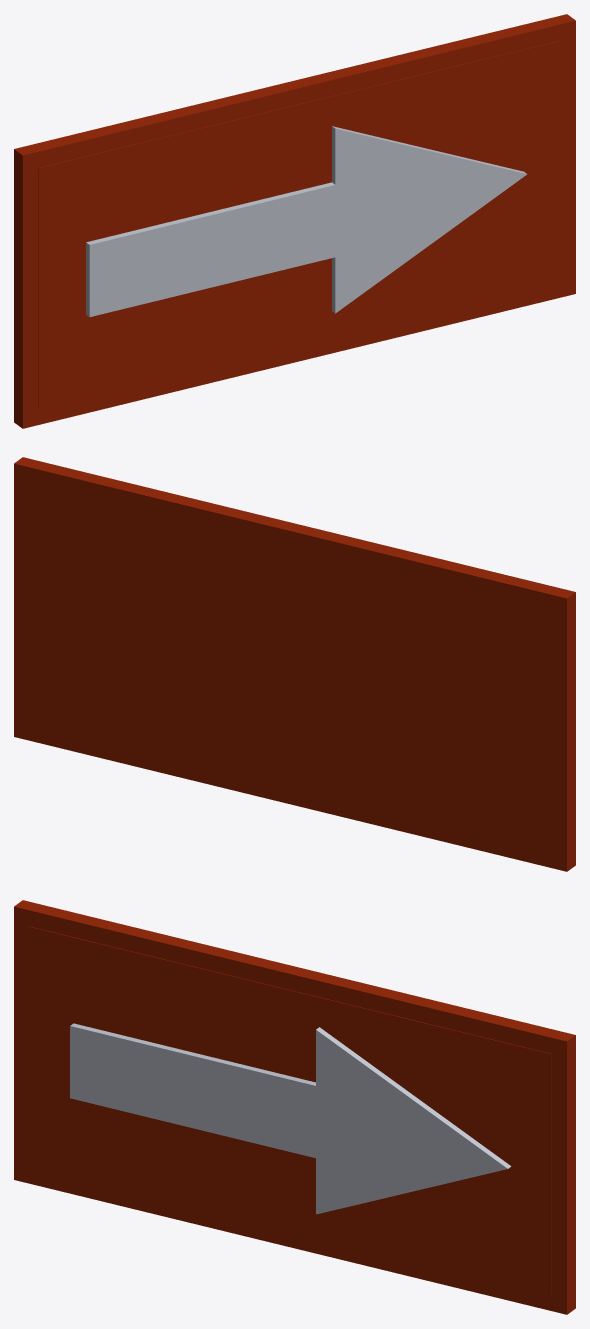
File: SM_Sign_Arrow_Orange.glb
3 renders of one model, top to bottom at view 1: azimuth 30°, elevation 25°; view 2: azimuth 150°, elevation 25°; view 3: azimuth 330°, elevation 25°, orthographic.
Visible parts, largest first — view 1: SM_Sign_Arrow_Orange; view 2: SM_Sign_Arrow_Orange; view 3: SM_Sign_Arrow_Orange.
Boxes of the visible parts, x1,y1,x2,y2 form: SM_Sign_Arrow_Orange: (14, 14, 575, 428); SM_Sign_Arrow_Orange: (14, 457, 575, 871); SM_Sign_Arrow_Orange: (14, 900, 575, 1314).
Size of the model in its own units: 0.72 by 0.34 by 0.032.
